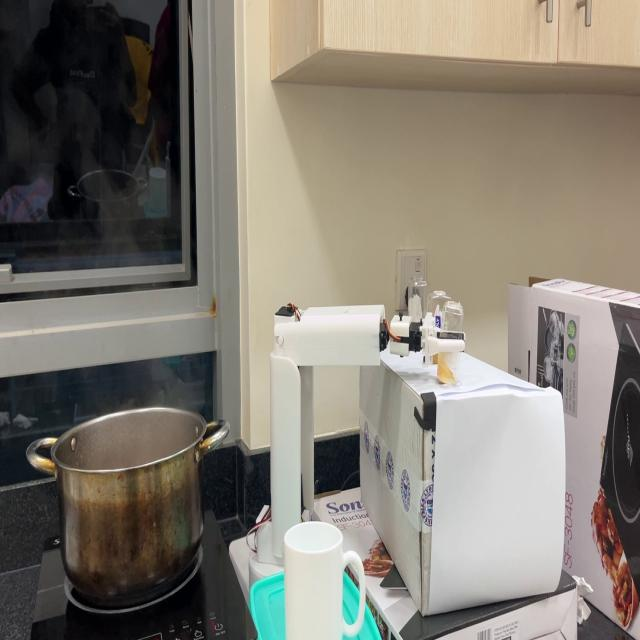cooking_pot: (29, 403, 237, 600)
garlic_powder: (439, 356, 456, 394)
